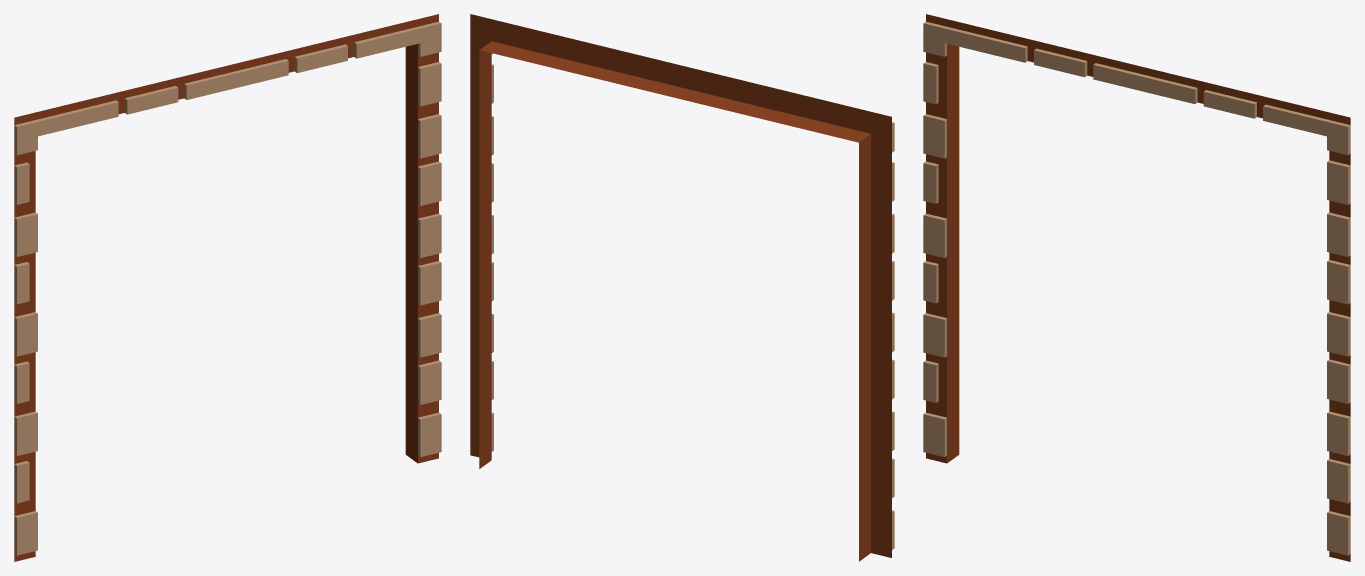
Rendered from Ext-BrickV1GarageFrame.fbx.
The picture shows the model from 3 angles, left to right: view 1: azimuth 30°, elevation 25°; view 2: azimuth 150°, elevation 25°; view 3: azimuth 330°, elevation 25°; orthographic projection.
Parts seen in each view (by area): view 1: Ext-BrickV1GarageFrame; view 2: Ext-BrickV1GarageFrame; view 3: Ext-BrickV1GarageFrame.
Part boxes in pixels (left/top/right/bottom): Ext-BrickV1GarageFrame: left=14, top=14, right=441, bottom=561; Ext-BrickV1GarageFrame: left=470, top=14, right=894, bottom=561; Ext-BrickV1GarageFrame: left=923, top=14, right=1350, bottom=561.
Bounding box in the file's own units: 200 × 200 × 12.
